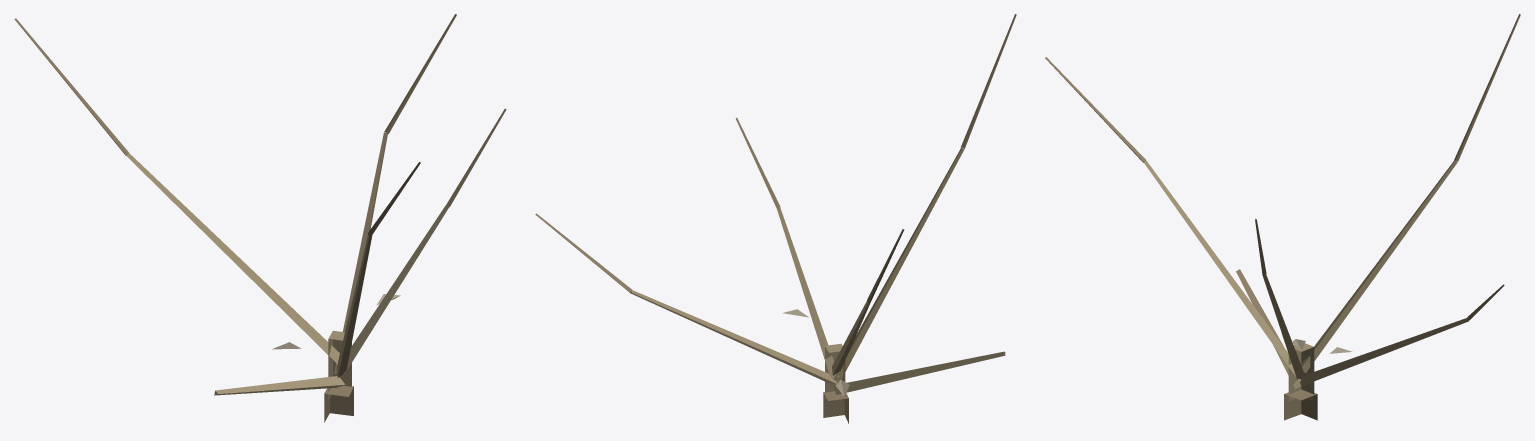
The model's file is shu.luoye@withered__spring.glb.
The picture shows the model from 3 angles, left to right: view 1: azimuth 30°, elevation 25°; view 2: azimuth 150°, elevation 25°; view 3: azimuth 270°, elevation 25°; orthographic projection. The views are drawn at different scales.
Parts seen in each view (by area): view 1: shu.luoye@withered__spring; view 2: shu.luoye@withered__spring; view 3: shu.luoye@withered__spring.
Part boxes in pixels (x1,y1,x2,y2): shu.luoye@withered__spring: [14, 14, 506, 422]; shu.luoye@withered__spring: [535, 14, 1016, 423]; shu.luoye@withered__spring: [1045, 14, 1520, 420].
Bounding box in the file's own units: 7.54 × 6.29 × 8.07.
